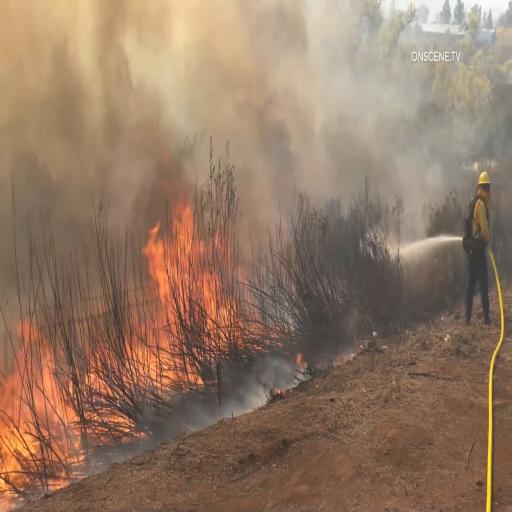fire: (10, 208, 151, 432), (160, 193, 237, 356)
smoke: (0, 4, 329, 115), (337, 6, 409, 178), (9, 111, 172, 186), (234, 109, 334, 186)
